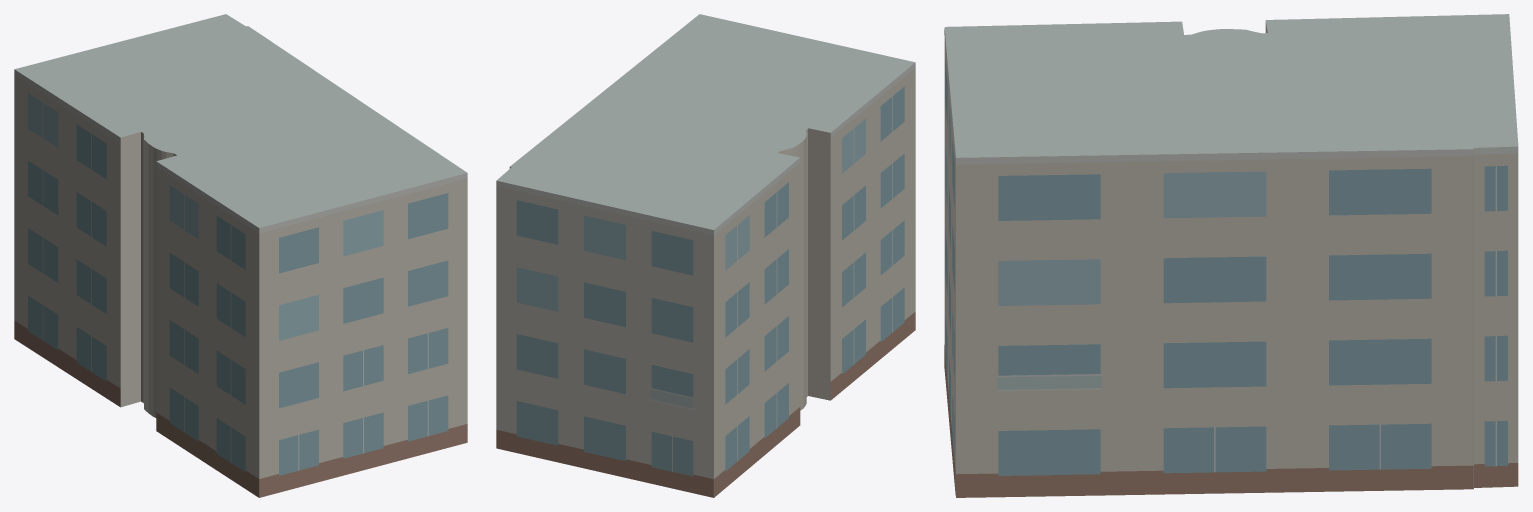
File: survey-upis-32775781.glb
3 renders of one model, left to right at view 1: azimuth 30°, elevation 25°; view 2: azimuth 150°, elevation 25°; view 3: azimuth 270°, elevation 25°, orthographic. The views are drawn at different scales.
Parts seen in each view (by area): view 1: survey-upis-32775781.tmp; view 2: survey-upis-32775781.tmp; view 3: survey-upis-32775781.tmp.
Boxes of the visible parts, x1,y1,x2,y2 form: survey-upis-32775781.tmp: (14, 14, 467, 497); survey-upis-32775781.tmp: (496, 14, 915, 497); survey-upis-32775781.tmp: (944, 14, 1518, 497).
Bounding box in the file's own units: 11.08 × 12.2 × 18.67.
